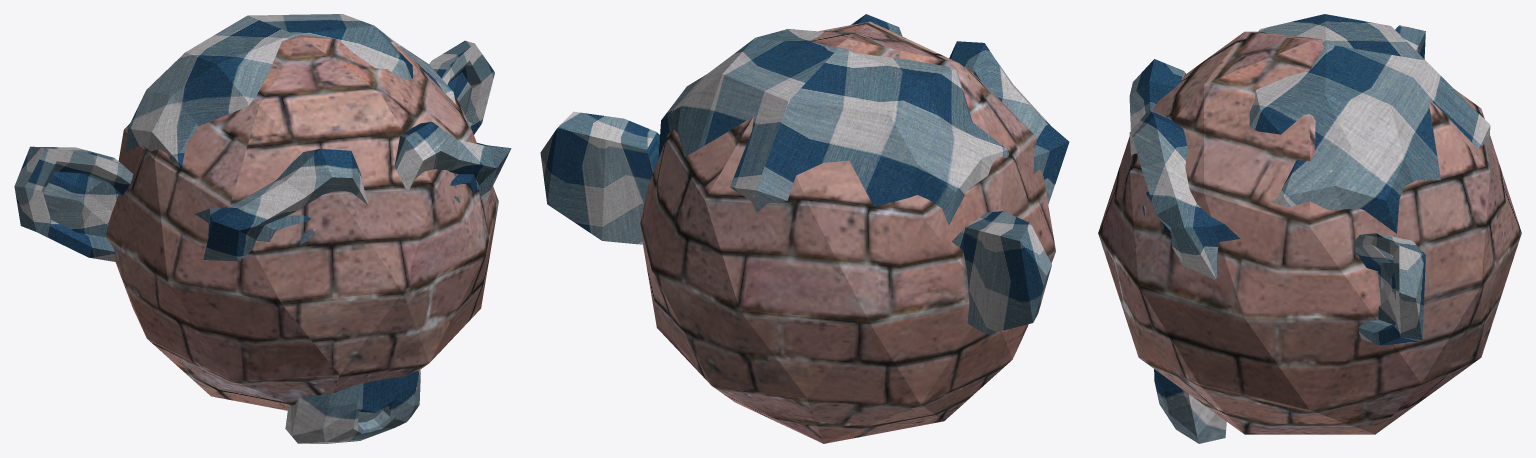
The model's file is two.obj.
3 renders of one model, left to right at view 1: azimuth 30°, elevation 25°; view 2: azimuth 150°, elevation 25°; view 3: azimuth 270°, elevation 25°, orthographic. The views are drawn at different scales.
Parts seen in each view (by area): view 1: Icosphere, Suzanne; view 2: Icosphere, Suzanne; view 3: Icosphere, Suzanne.
Boxes of the visible parts, <box> form: Icosphere: <box>106,35,498,410</box>; Suzanne: <box>14,14,511,443</box>; Icosphere: <box>640,21,1055,443</box>; Suzanne: <box>540,14,1069,334</box>; Icosphere: <box>1098,31,1521,434</box>; Suzanne: <box>1129,14,1490,443</box>.
Bounding box in the file's own units: 2.73 × 2 × 2.
2 materials, 2 textured.
